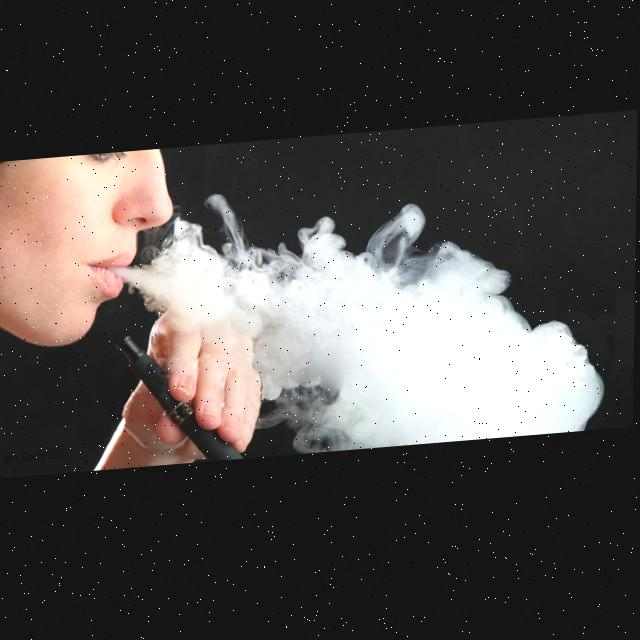vape: (114, 329, 246, 471)
